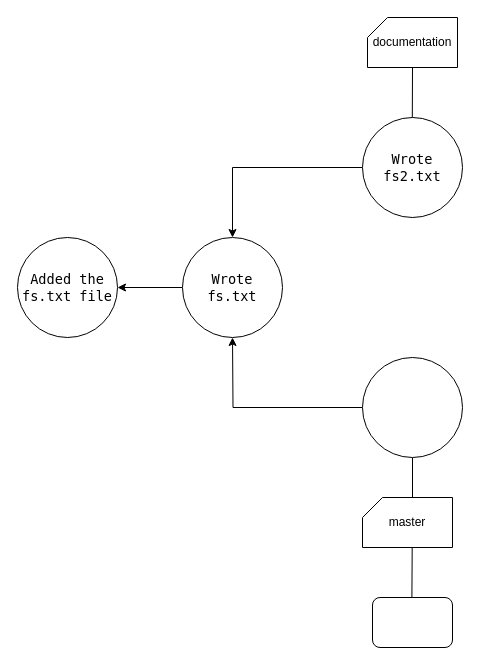
Some shapes in this 480 by 665 pixel diagram are drawn without their labels. Each missing label, with the centre of its shape:
"HEAD" goes at (x=412, y=622).
"Wrote fs3.txt" goes at (x=412, y=407).
